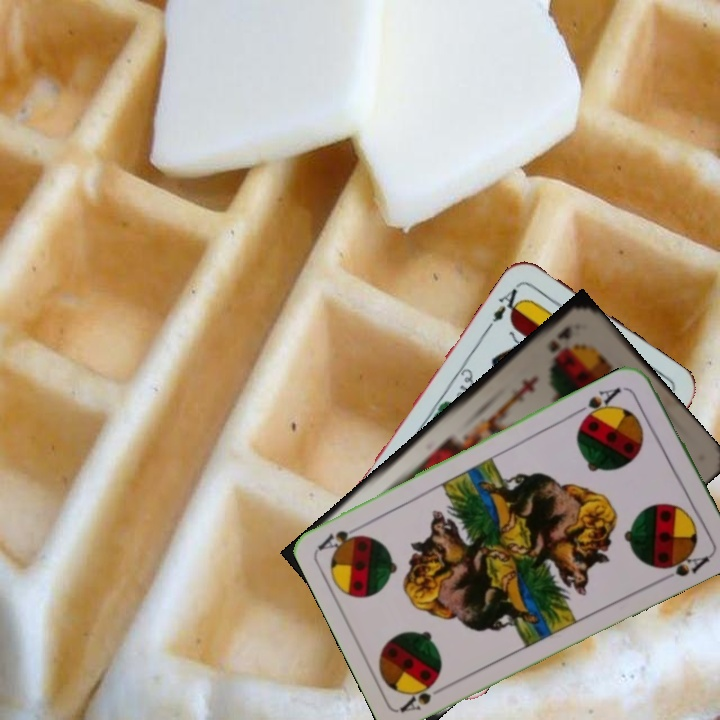EA: (483, 280, 527, 332)
SA: (397, 674, 453, 715), (574, 383, 624, 424)
SK: (544, 321, 574, 355)
